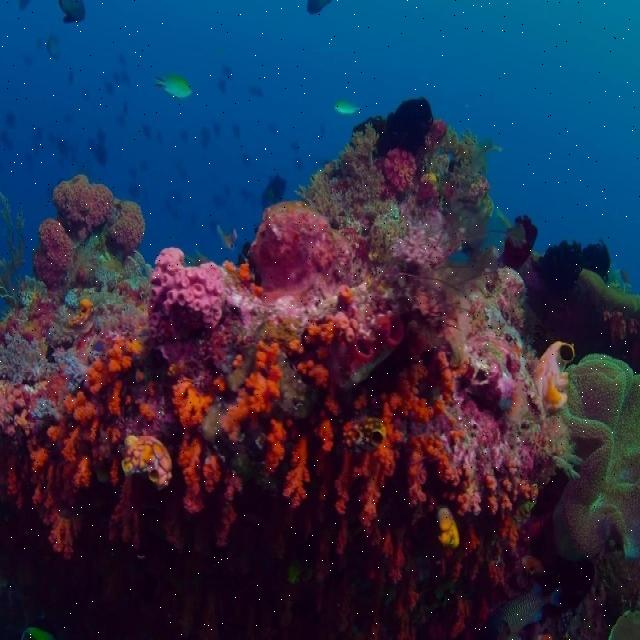aquatic plants: (0, 195, 26, 306)
fish: (468, 582, 561, 639), (150, 73, 193, 97), (56, 0, 86, 25), (337, 98, 362, 114)
reefs: (0, 96, 580, 639), (552, 354, 639, 639)
sea-floor: (504, 216, 639, 369)
